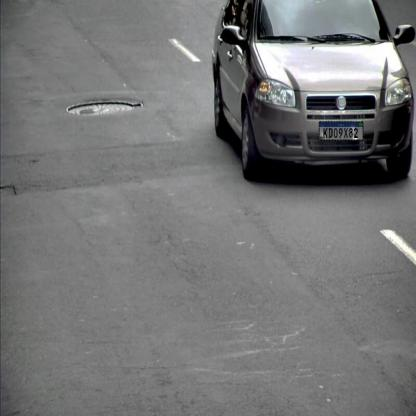PlacaM: (319, 121, 363, 141)
